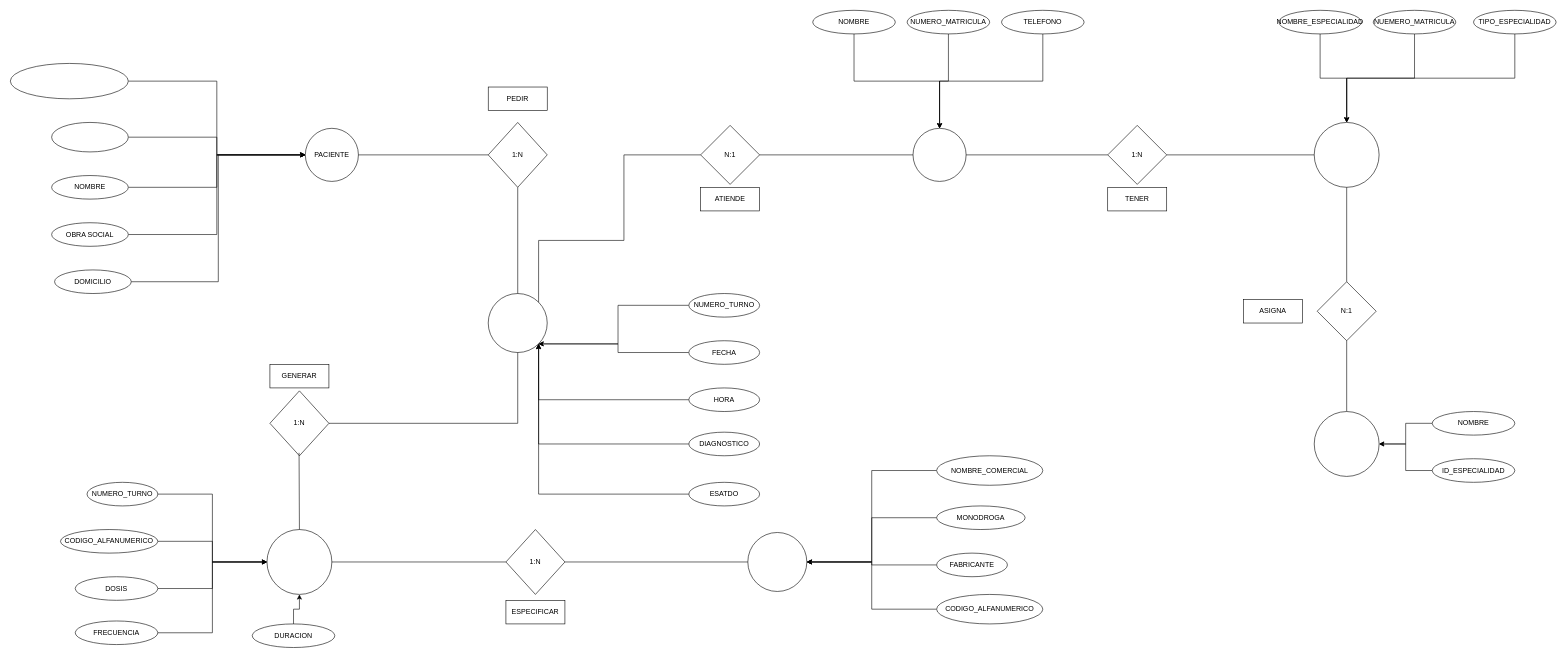
This 1566x658 diagram has some shape labels left out. Here are the shapes that lost their labels. From the top down, the centre of each, then its label:
At (x=69, y=81): "NUMERO_HISTORIA_CLINICA".
At (x=89, y=137): "DNI".
At (x=939, y=154): "MEDICO".
At (x=1346, y=154): "MEDICO-ESPECIALIDAD".
At (x=517, y=323): "TURNO".
At (x=1346, y=443): "ESPECIALIDAD".
At (x=299, y=561): "RECETA".
At (x=777, y=561): "MEDICAMENTO".
